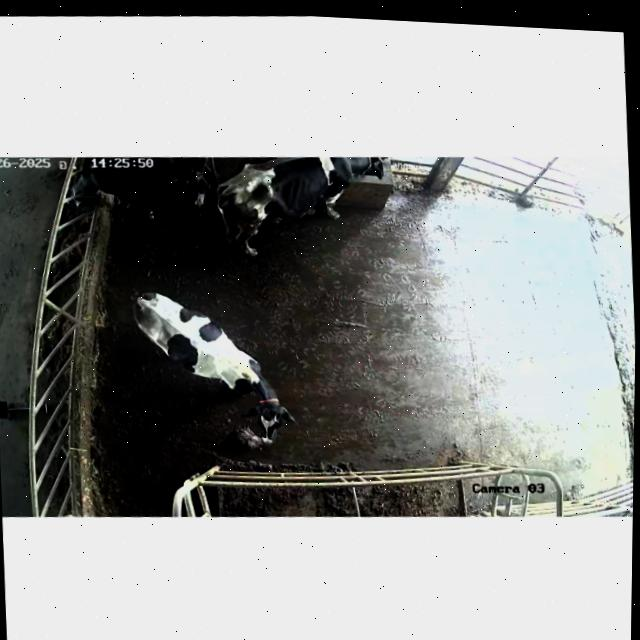stand: (124, 271, 304, 462)
